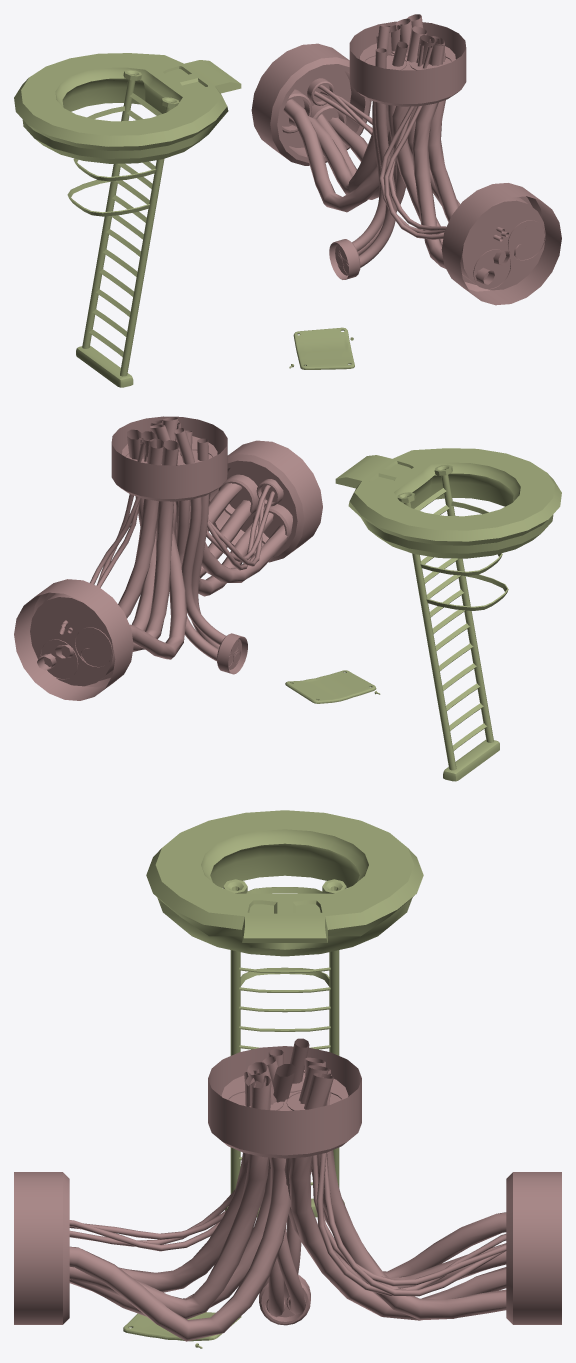
Rendered from LowerReactor.fbx.
The picture shows the model from 3 angles, top to bottom: view 1: azimuth 30°, elevation 25°; view 2: azimuth 150°, elevation 25°; view 3: azimuth 270°, elevation 25°; orthographic projection. The views are drawn at different scales.
Parts seen in each view (by area): view 1: ReactorWires_Geo, Ladder_Geo; view 2: ReactorWires_Geo, Ladder_Geo; view 3: ReactorWires_Geo, Ladder_Geo.
Boxes of the visible parts, x1,y1,x2,y2 form: ReactorWires_Geo: [251, 14, 561, 305]; Ladder_Geo: [14, 53, 354, 387]; ReactorWires_Geo: [14, 416, 322, 700]; Ladder_Geo: [285, 448, 561, 781]; ReactorWires_Geo: [14, 1038, 561, 1341]; Ladder_Geo: [123, 810, 423, 1348].
Bounding box in the file's own units: 472 × 287 × 396.
